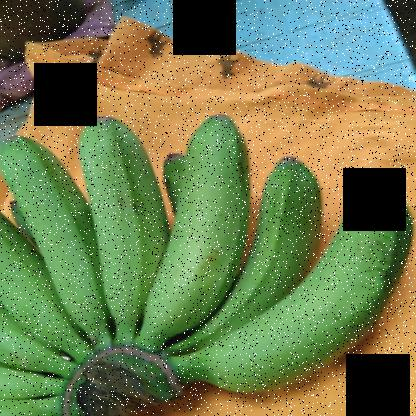freshunripe: (185, 175, 415, 398), (171, 148, 327, 354), (135, 105, 248, 347), (0, 120, 123, 339)
